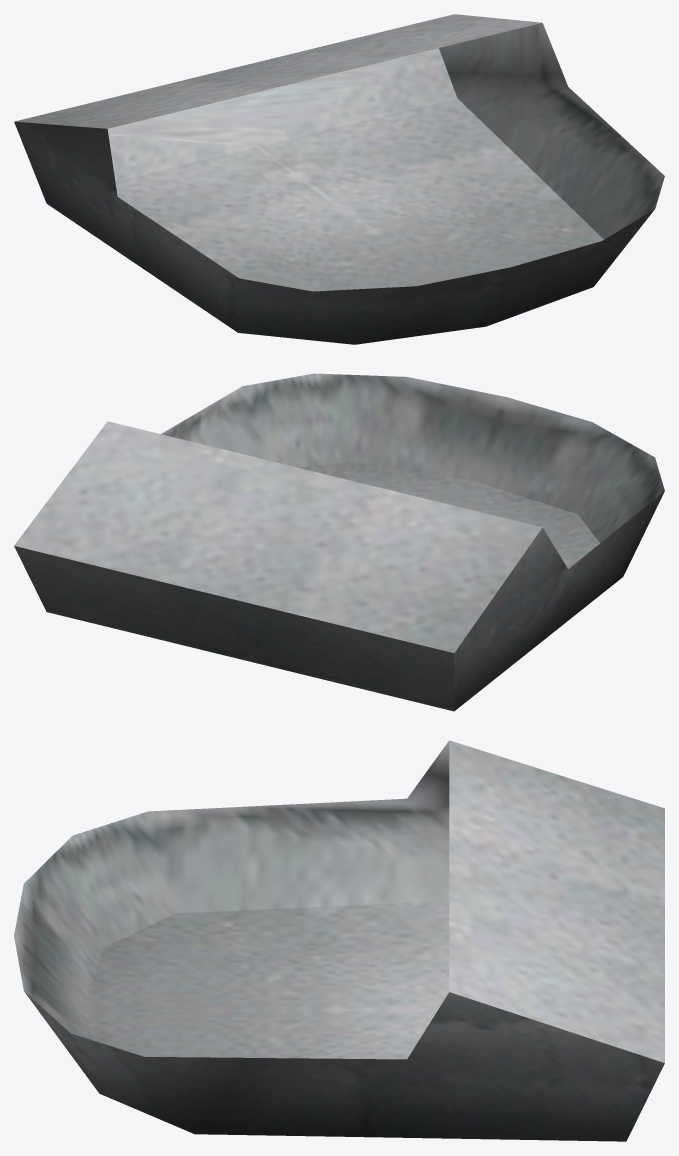
The model's file is eqp_cook_baking_dish_l1.fbx.
3 renders of one model, top to bottom at view 1: azimuth 30°, elevation 25°; view 2: azimuth 150°, elevation 25°; view 3: azimuth 270°, elevation 25°, orthographic. The views are drawn at different scales.
Visible parts, largest first — view 1: mesh_node; view 2: mesh_node; view 3: mesh_node.
Part boxes in pixels (x1=…): mesh_node: x1=14, y1=14, x2=664, y2=344; mesh_node: x1=14, y1=373, x2=664, y2=711; mesh_node: x1=14, y1=740, x2=664, y2=1141.
Size of the model in its own units: 0.3261 by 0.0918 by 0.344.
